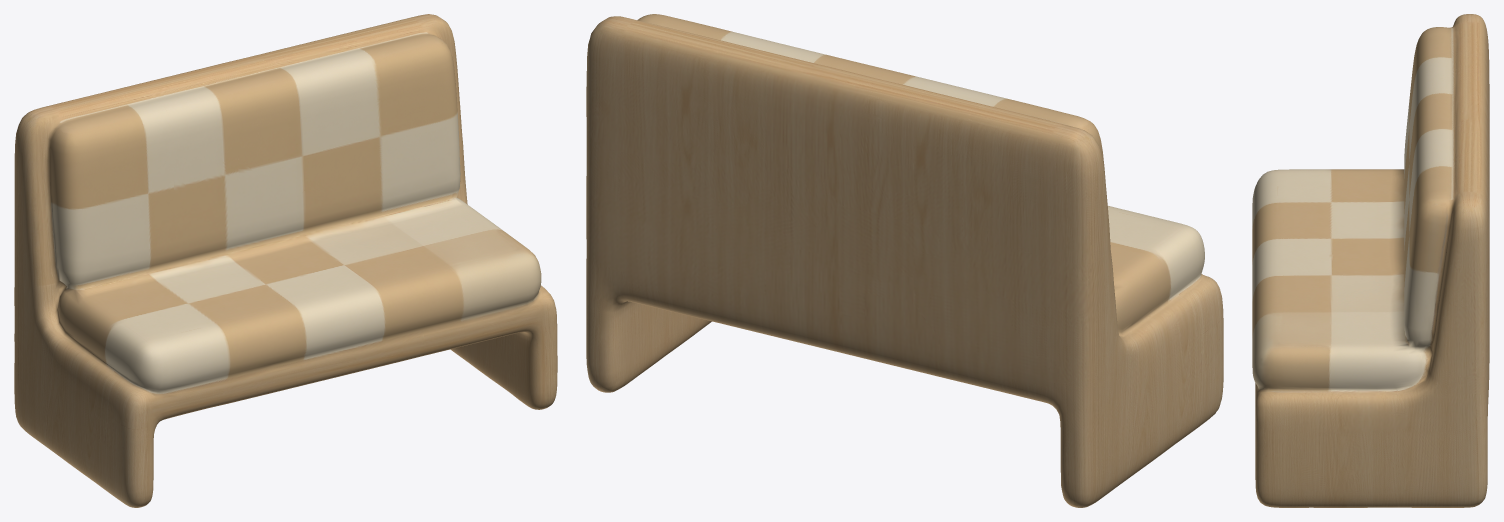
The model's file is Beige_Checkerboard_Sofa_Small.glb.
The picture shows the model from 3 angles, left to right: view 1: azimuth 30°, elevation 25°; view 2: azimuth 150°, elevation 25°; view 3: azimuth 270°, elevation 25°; orthographic projection. The views are drawn at different scales.
Bounding box in the file's own units: 1.91 × 1.34 × 0.9462.
1 material, 1 textured.
